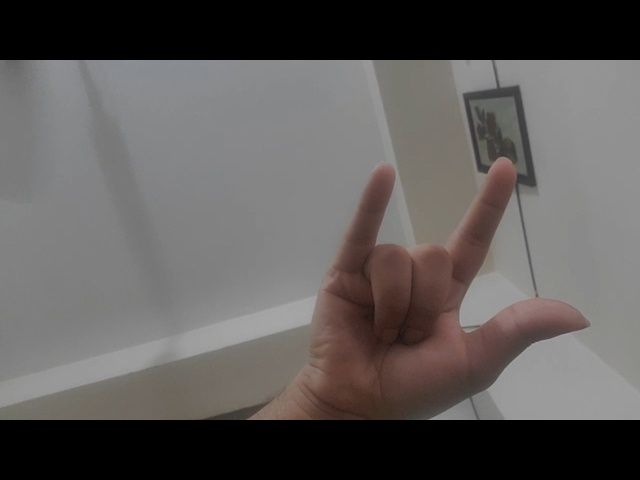I love you: (237, 135, 609, 417)
